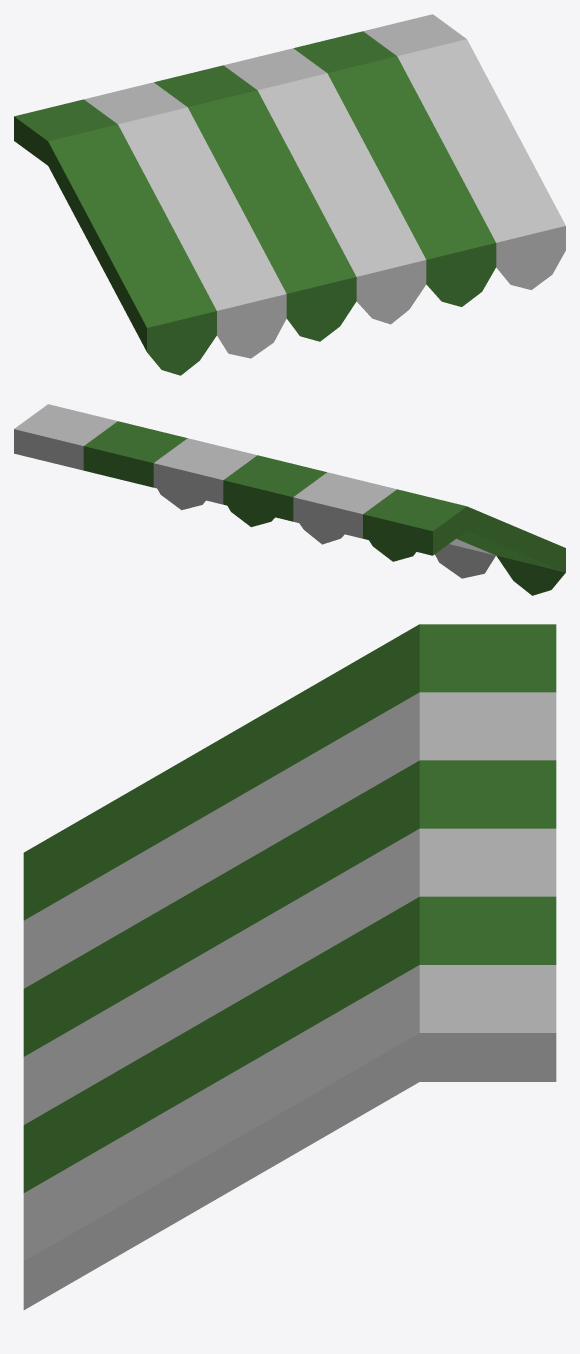
The model's file is YakkisobaPannel_Top.fbx.
3 renders of one model, top to bottom at view 1: azimuth 30°, elevation 25°; view 2: azimuth 150°, elevation 25°; view 3: azimuth 270°, elevation 25°, orthographic. The views are drawn at different scales.
Parts seen in each view (by area): view 1: 큐브.004; view 2: 큐브.004; view 3: 큐브.004.
Part boxes in pixels (<box>): 큐브.004: <box>14,14,565,375</box>; 큐브.004: <box>14,404,565,595</box>; 큐브.004: <box>23,624,556,1309</box>.
Bounding box in the file's own units: 247 × 95.9 × 136.
